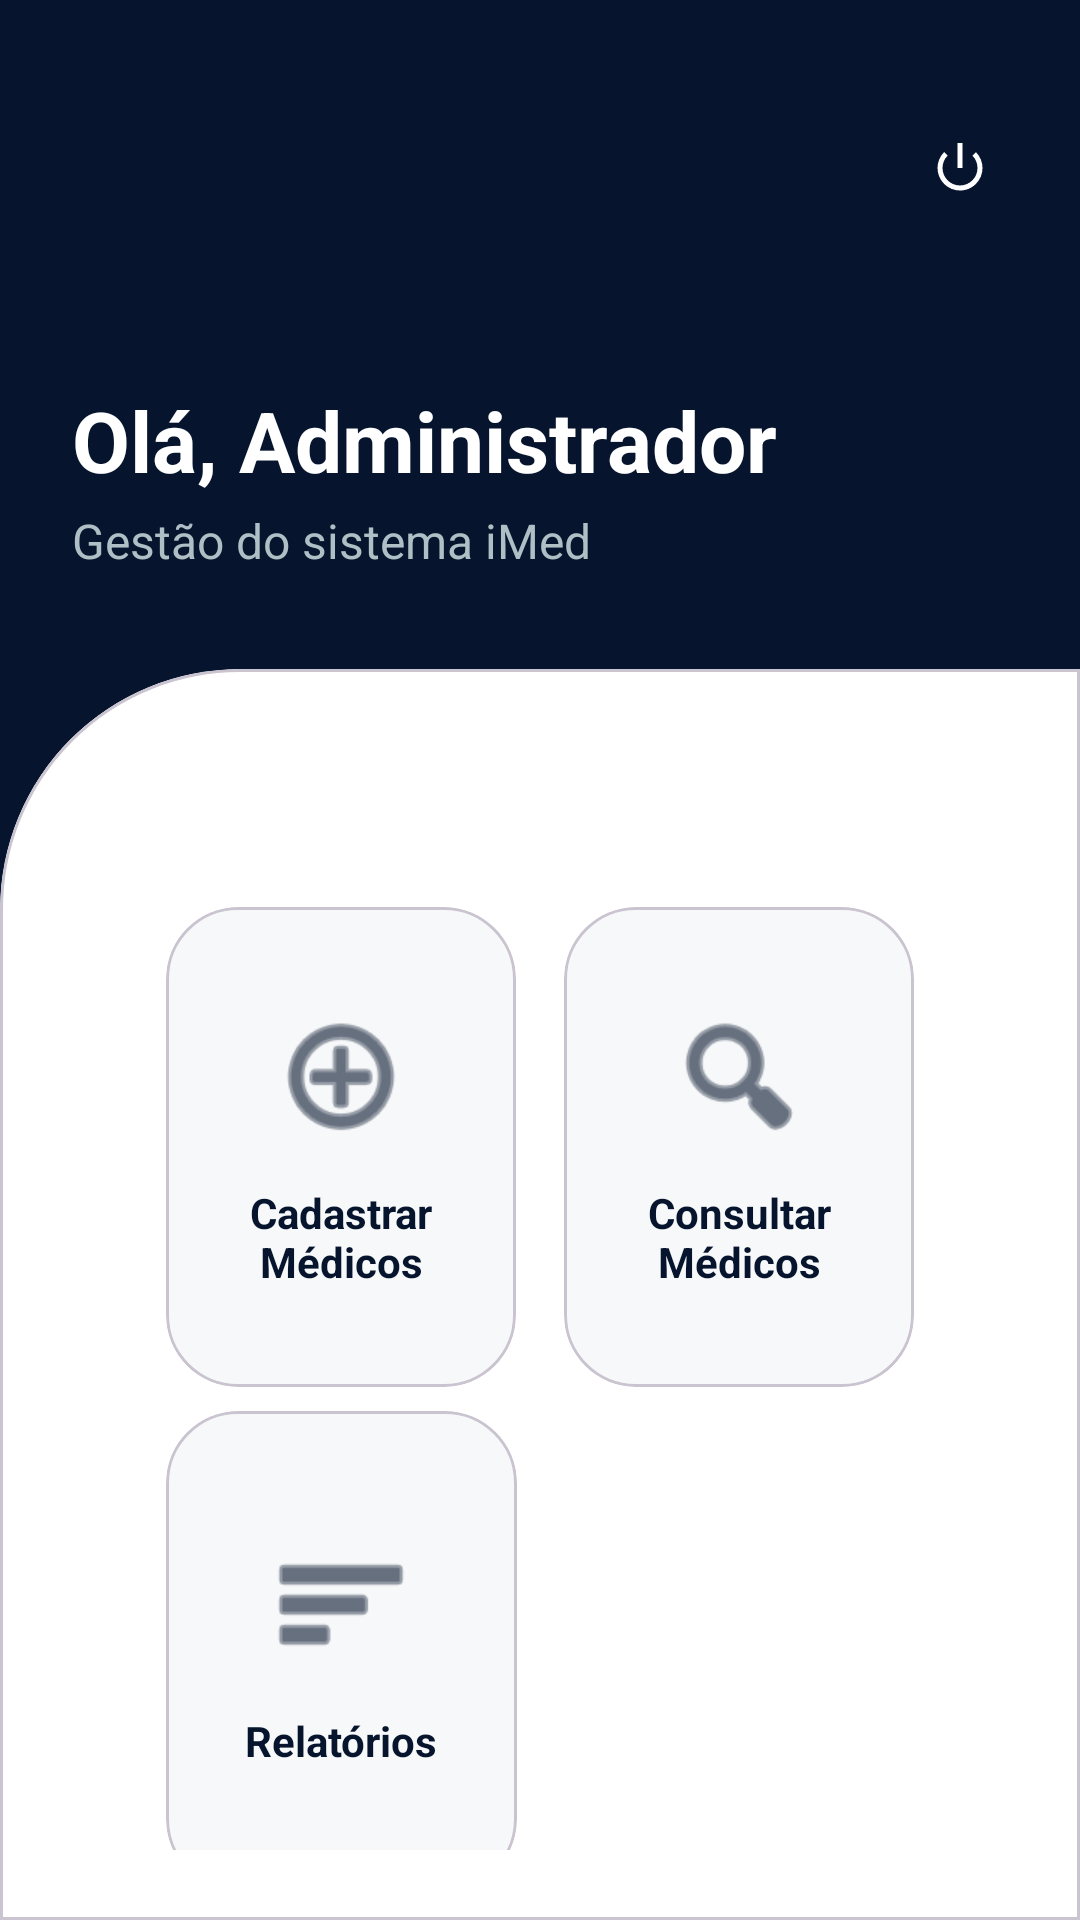

Point at icon controls on the screen. Image size 1080×1920, points as point (x, y).
add: point (341, 1076)
Sair: point (960, 167)
search: point (739, 1076)
sort by size: point (341, 1604)
